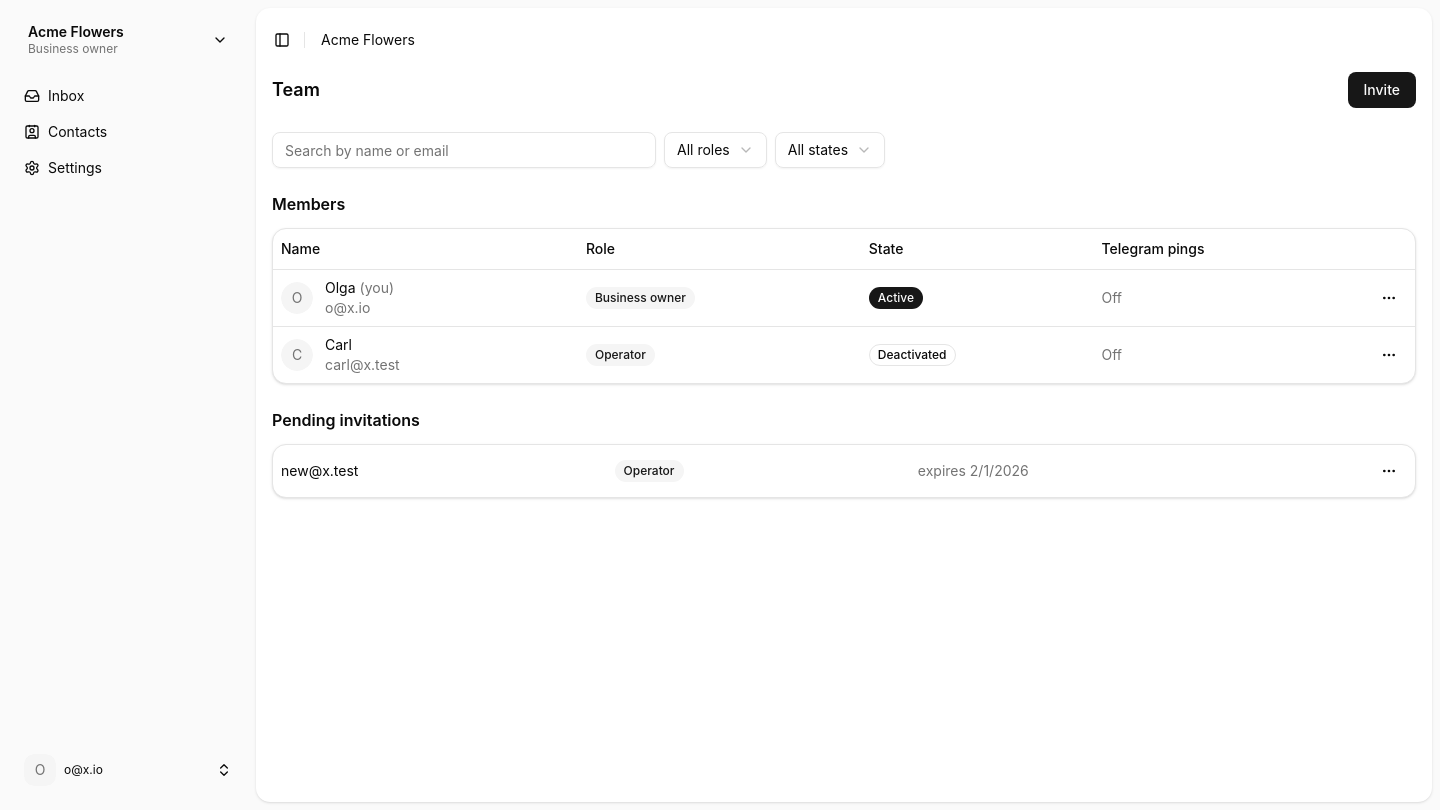
Test case: TeamPage (SCR-07) › reactivate: Active again with the same role (AC-19)
Check: the text "Carl" is shown, box top-left (325, 336), bottom-right (352, 352)
Press Enter in the button named "Actions for carl@x.test", box top-left (1371, 336), bottom-right (1407, 372)
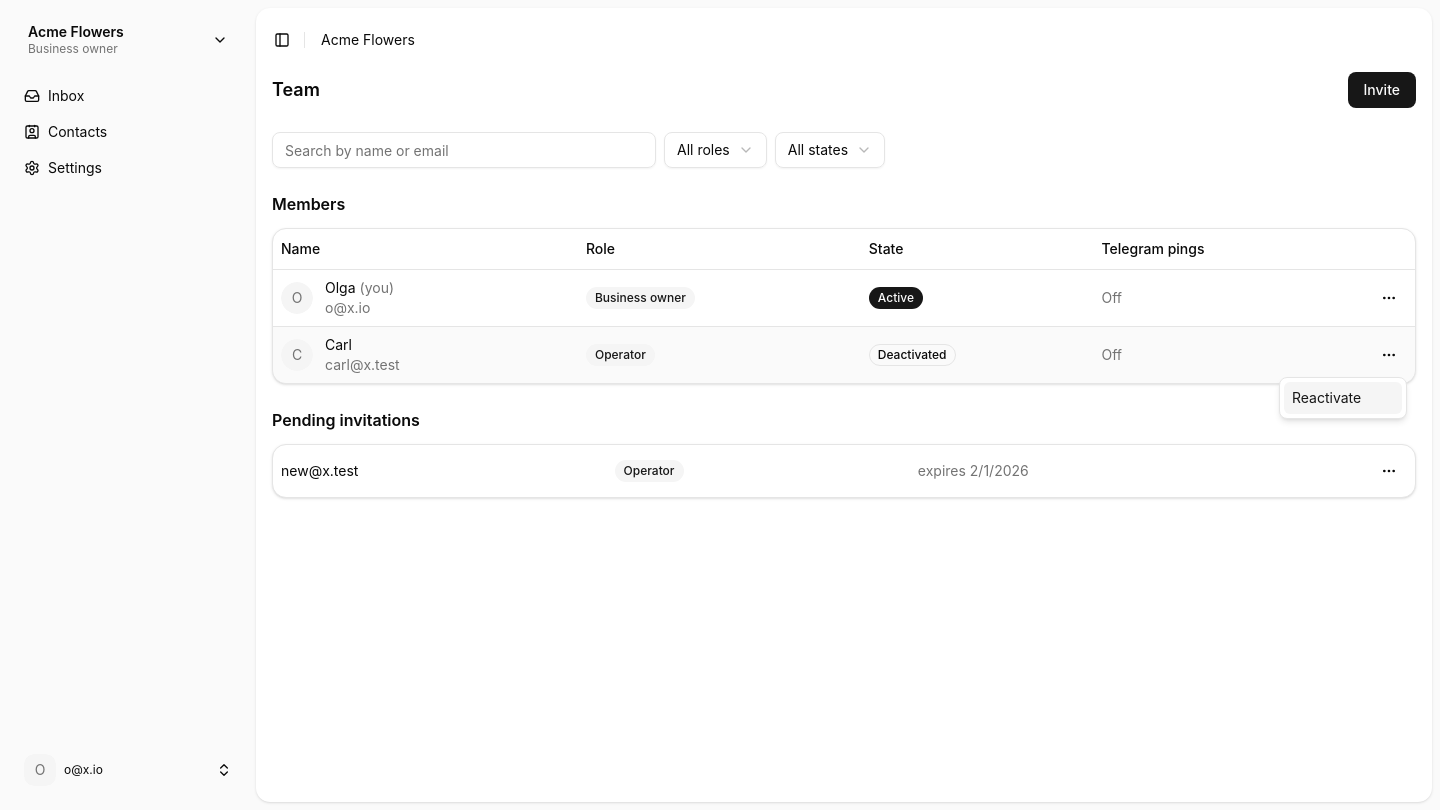
Click the menu item "Reactivate" at (1343, 398), box top-left (1284, 382), bottom-right (1402, 414)
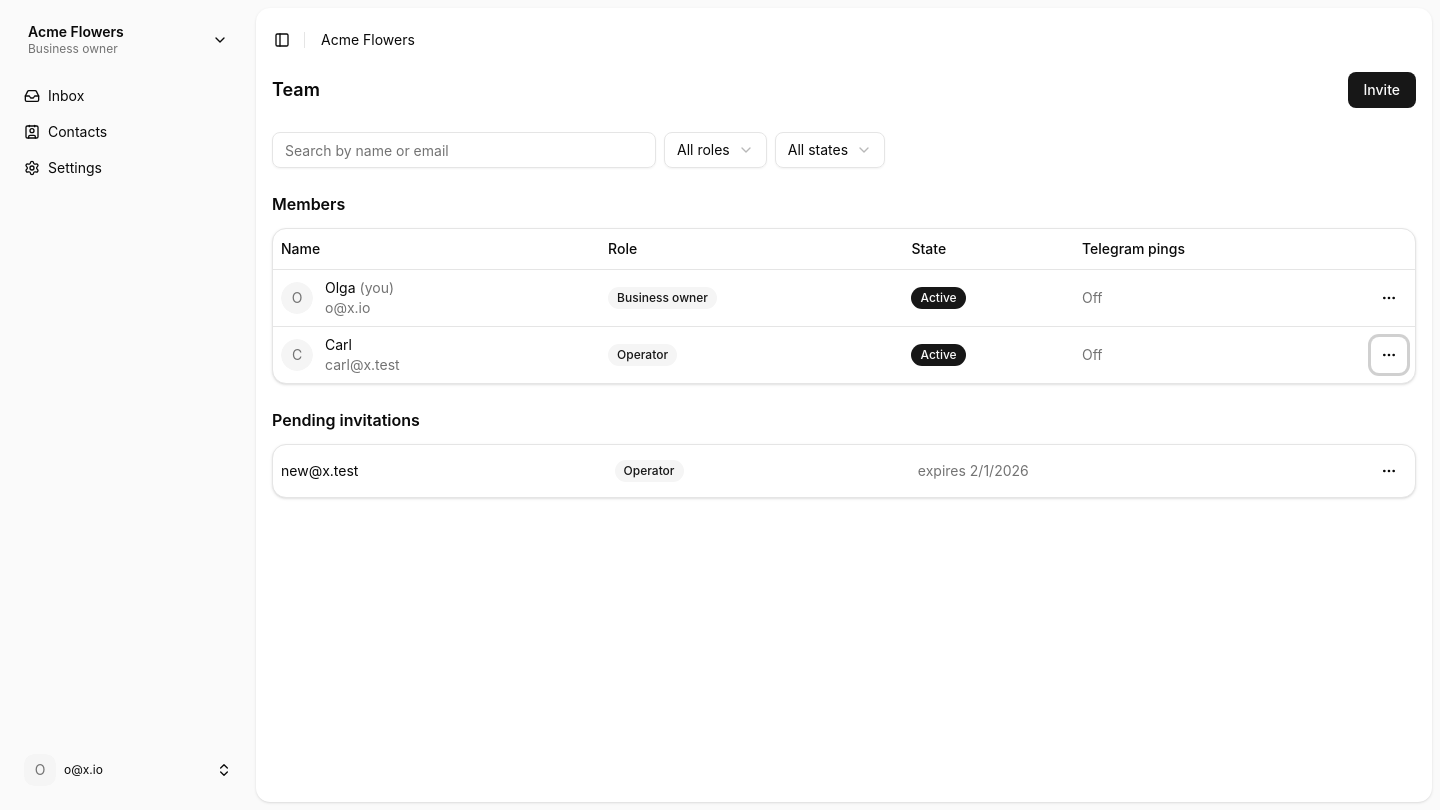
Check: the text "Active" in the row of "carl@x.test" is shown, box top-left (920, 346), bottom-right (957, 362)
Press Enter in the button named "Actions for carl@x.test", box top-left (1371, 336), bottom-right (1407, 372)
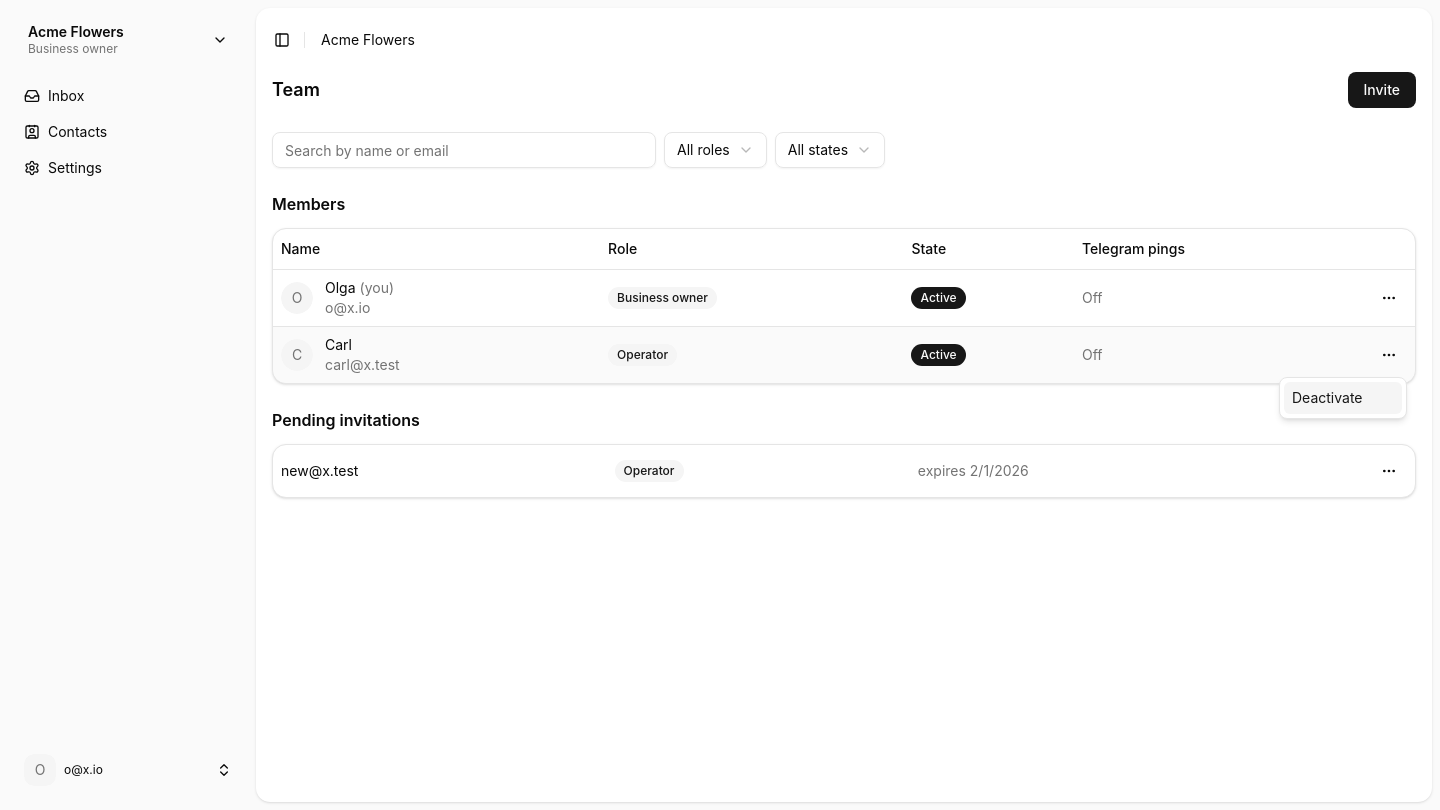
Check: the text "Operator" in the row of "carl@x.test" is shown, box top-left (617, 346), bottom-right (668, 362)
Check: the text "Active" in the row of "carl@x.test" is shown, box top-left (920, 346), bottom-right (957, 362)
Check: the menu item "Deactivate" is shown, box top-left (1284, 382), bottom-right (1402, 414)
